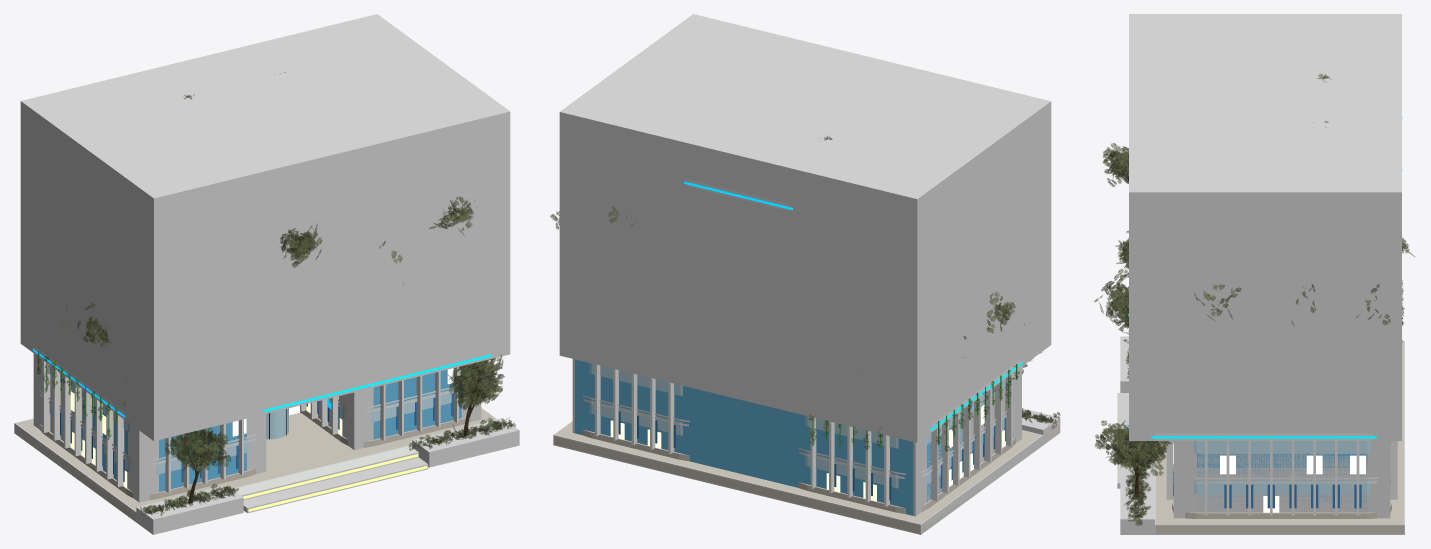
Rendered from ai_lab.glb.
The picture shows the model from 3 angles, left to right: view 1: azimuth 30°, elevation 25°; view 2: azimuth 150°, elevation 25°; view 3: azimuth 270°, elevation 25°; orthographic projection. The views are drawn at different scales.
Parts seen in each view (by area): view 1: COL_upper, AI_white, AI_stone, AI_glass, COL_wing_l, COL_planter-1, COL_planter1, FOLIAGE, AI_glass_hi, HT_4, COL_step_a, COL_wing_r (+8 smaller); view 2: COL_upper, AI_glass, AI_white, AI_stone, AI_glass_hi, COL_plinth, COL_wing_l, FOLIAGE, AI_glass_lit, AI_glass_dk, AI_vine, COL_planter-1 (+2 smaller); view 3: COL_upper, COL_wing_r, AI_stone, AI_white, AI_glass_hi, HT_4, AI_glass, FOLIAGE, COL_planter1, COL_plinth, AI_glass_lit, HT_3 (+5 smaller).
Part boxes in pixels (x1,y1,x2,y2): COL_upper: (20,14,510,440); AI_white: (34,346,468,512); AI_stone: (15,408,495,520); AI_glass: (62,369,461,491); COL_wing_l: (33,353,266,502); COL_planter-1: (136,485,243,534); COL_planter1: (412,418,519,467); FOLIAGE: (36,72,515,515); AI_glass_hi: (49,365,464,474); HT_4: (448,354,504,435); COL_step_a: (243,457,428,513); COL_wing_r: (318,363,481,450); COL_upper: (559,14,1051,442); AI_glass: (575,359,962,515); AI_white: (582,179,1020,506); AI_stone: (554,422,1041,533); AI_glass_hi: (589,363,1005,488); COL_plinth: (553,421,1043,534); COL_wing_l: (913,366,1021,516); FOLIAGE: (550,136,1060,451); AI_glass_lit: (610,405,1005,501); AI_glass_dk: (618,411,1005,500); AI_vine: (812,364,1017,450); COL_planter-1: (1022,408,1060,444); COL_upper: (1129,14,1401,440); COL_wing_r: (1173,441,1390,518); AI_stone: (1156,342,1403,533); AI_white: (1137,433,1397,515); AI_glass_hi: (1173,441,1390,494); HT_4: (1095,420,1171,496); AI_glass: (1197,453,1367,512); FOLIAGE: (1118,74,1415,525); COL_planter1: (1120,474,1154,534); COL_plinth: (1155,341,1404,534); AI_glass_lit: (1173,443,1365,512); HT_3: (1094,273,1128,334).
Bounding box in the file's own units: 32.31 × 26.46 × 22.57.
17 materials, 2 textured.
